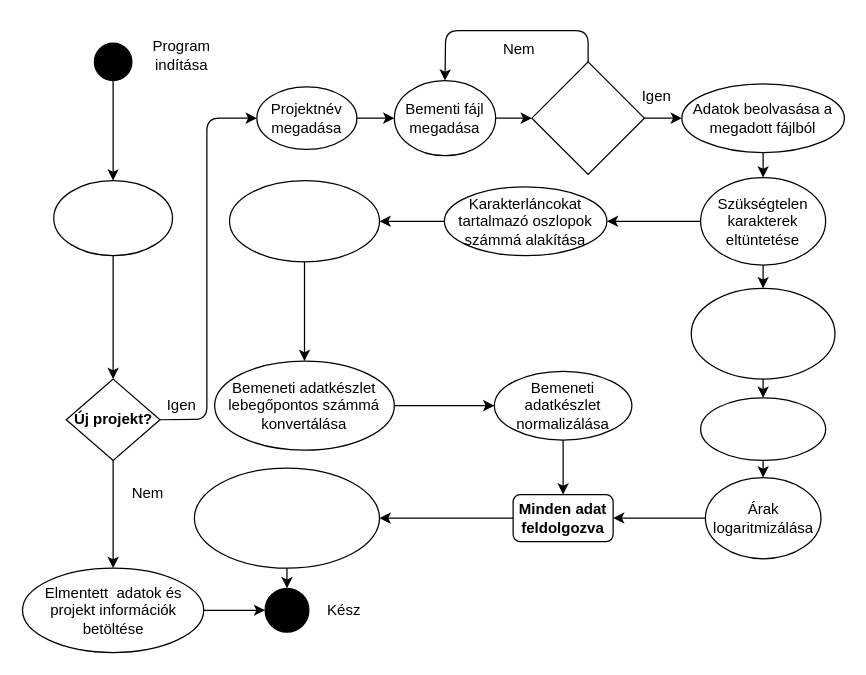
Some shapes in this 866 by 675 pixel diagram are drawn without their labels. The shapes that lost their labels are listed below. From the top down, each one's box as (x1, y1, x2, y2) in pixels, then its label:
(531, 61, 644, 174): Sikeres megadás?
(52, 179, 172, 256): Futási mód kiválasztása
(228, 179, 380, 262): One-hot encoding (szükséges oszlopokon)
(690, 287, 835, 379): Kimeneti értékek lebegőpontos számmá alakítása
(699, 397, 826, 460): Árak amerikai dollárrá váltása
(193, 467, 380, 568): Projekt információk és adatkészletek mentése
